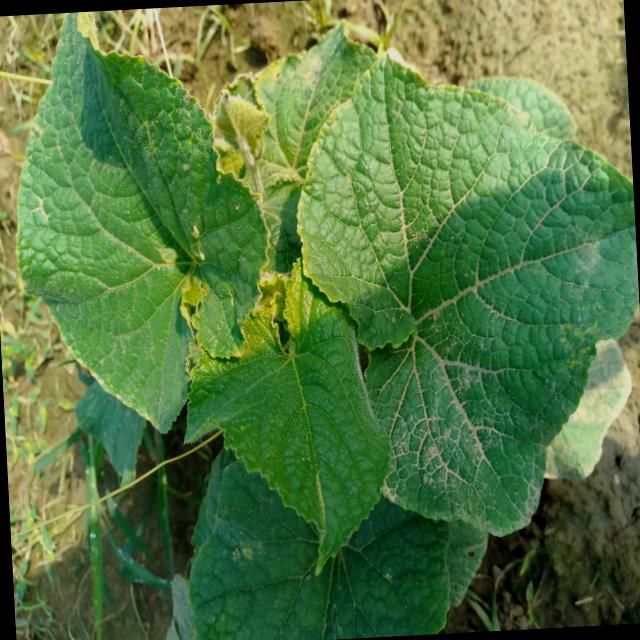cucumber_healthy: (283, 38, 640, 555), (0, 4, 256, 444), (169, 259, 398, 590)
